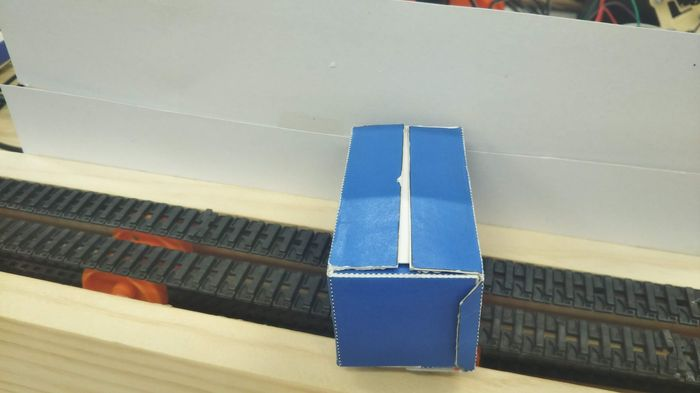box3: (324, 122, 484, 373)
